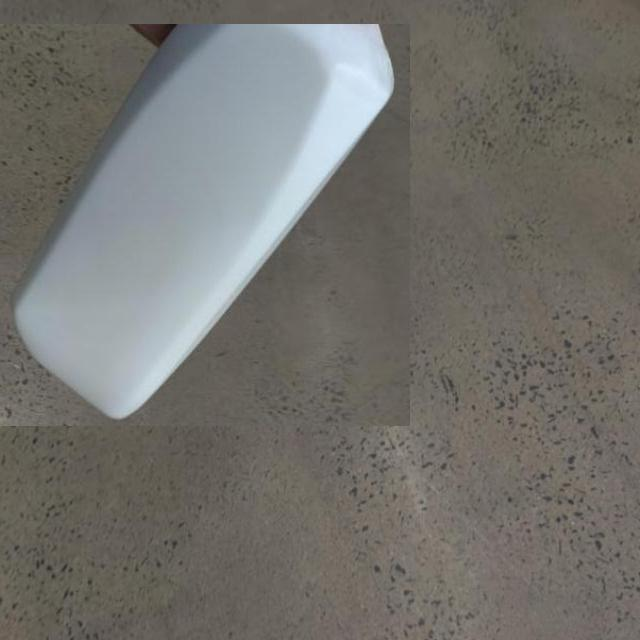Milk: (0, 24, 410, 426)
